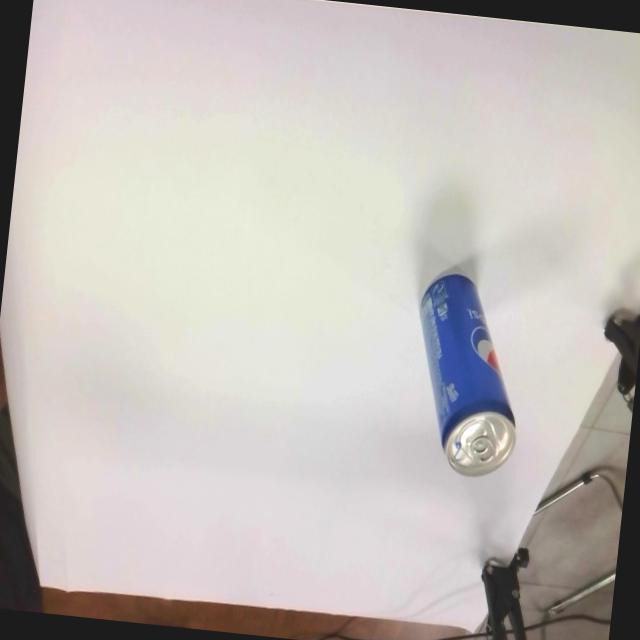debris: (400, 268, 532, 481)
